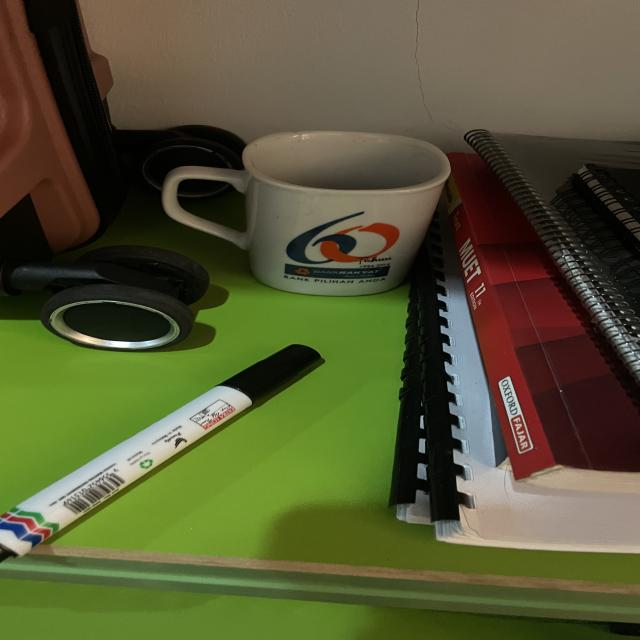marker: (0, 344, 321, 562)
